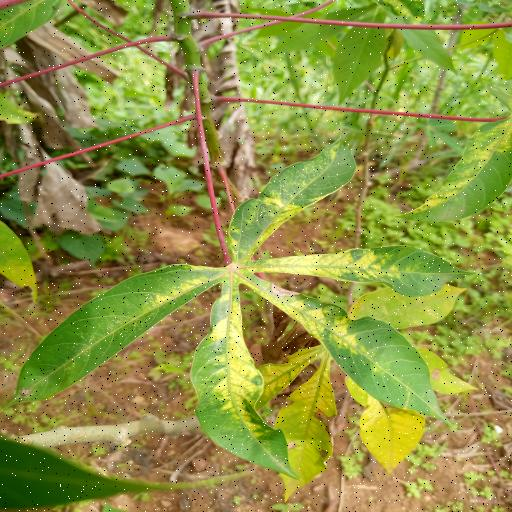Cassava_Mosaic: (14, 129, 468, 478)
